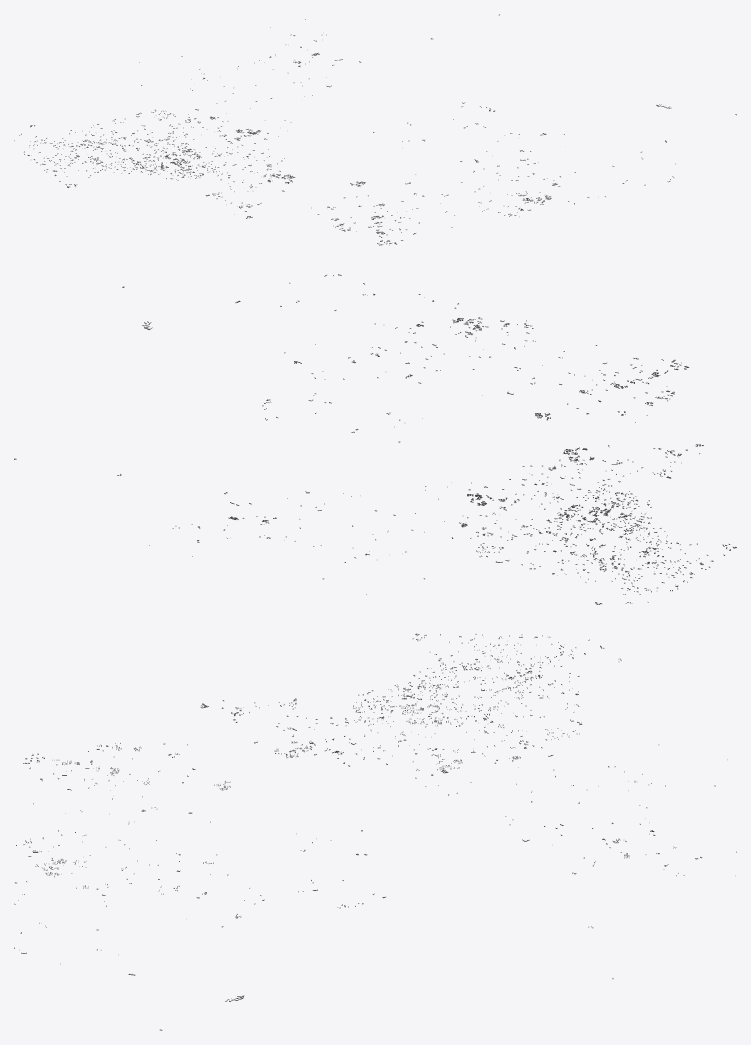
File: NoLod_79.glb
3 renders of one model, top to bottom at view 1: azimuth 30°, elevation 25°; view 2: azimuth 150°, elevation 25°; view 3: azimuth 270°, elevation 25°, orthographic. The views are drawn at different scales.
Parts seen in each view (by area): view 1: rtc; view 2: rtc; view 3: rtc.
Part boxes in pixels (bbox=[...]): rtc: bbox=[14, 14, 736, 245]; rtc: bbox=[14, 274, 736, 604]; rtc: bbox=[14, 633, 736, 1030].
Size of the model in its own units: 24268 by 89.55 by 18756.
Materials: 1 (1 with a texture image).
